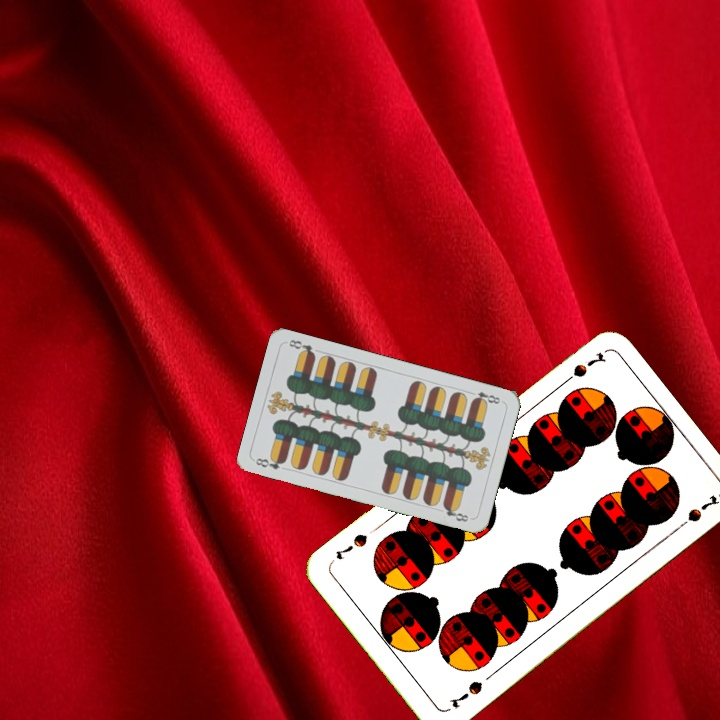E8: (465, 387, 503, 407), (251, 453, 288, 472)
S7: (556, 348, 609, 389), (445, 676, 486, 711)
